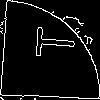T: (25, 25, 76, 59)
